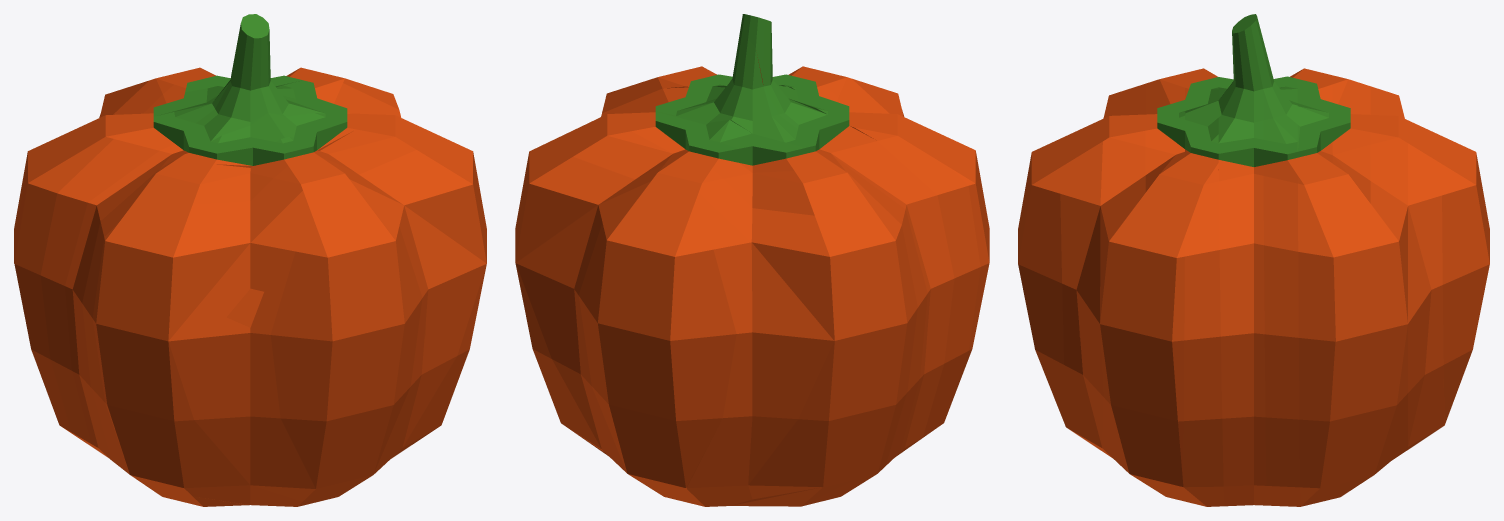
File: RedBellPepper.fbx
3 renders of one model, left to right at view 1: azimuth 30°, elevation 25°; view 2: azimuth 150°, elevation 25°; view 3: azimuth 270°, elevation 25°, orthographic.
Visible parts, largest first — view 1: polySurface384; view 2: polySurface384; view 3: polySurface384.
Boxes of the visible parts, bbox=[...] form: polySurface384: bbox=[14, 14, 486, 506]; polySurface384: bbox=[515, 14, 989, 506]; polySurface384: bbox=[1018, 14, 1489, 506].
Size of the model in its own units: 210 by 228 by 220.
